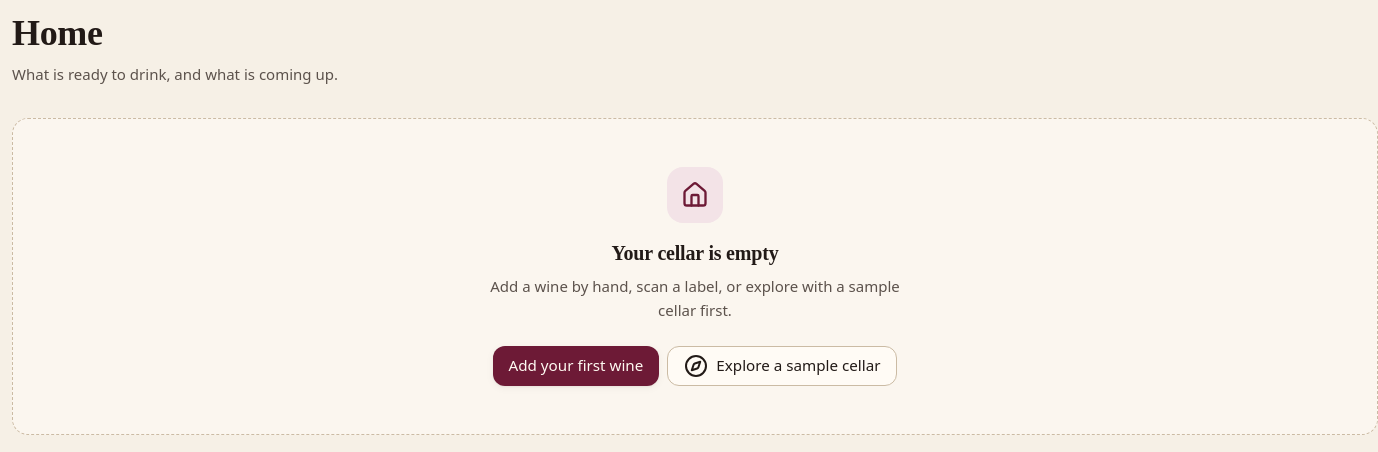
Test case: HomePage › loads the sample cellar from the empty state
Click the button "Explore a sample cellar" at (782, 366), box x1=667 y1=346 x2=897 y2=386
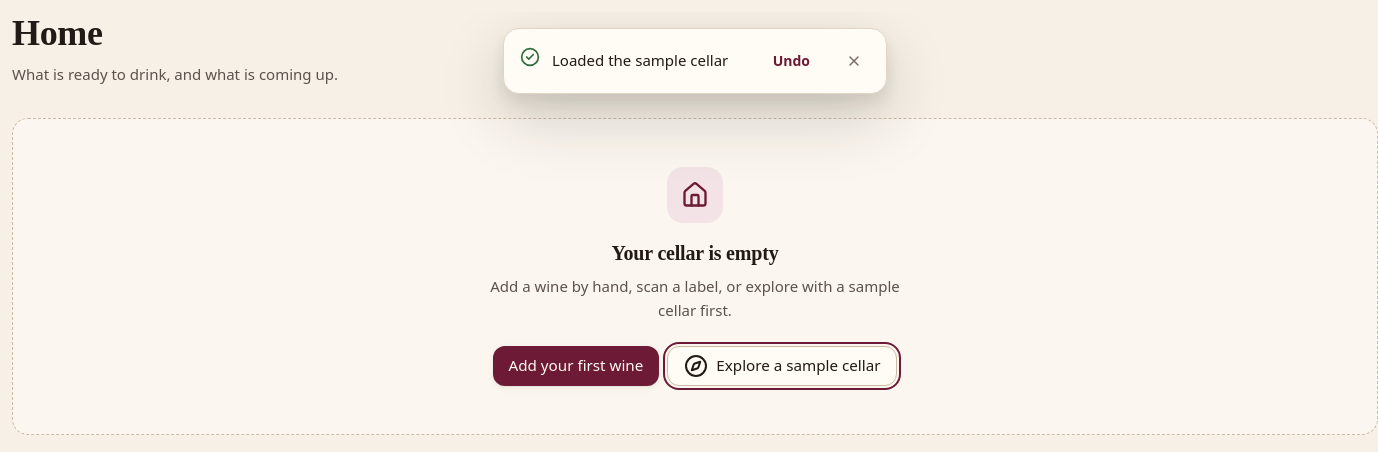
Expected: the text "Loaded the sample cellar" is shown, x1=552 y1=49 x2=749 y2=73
